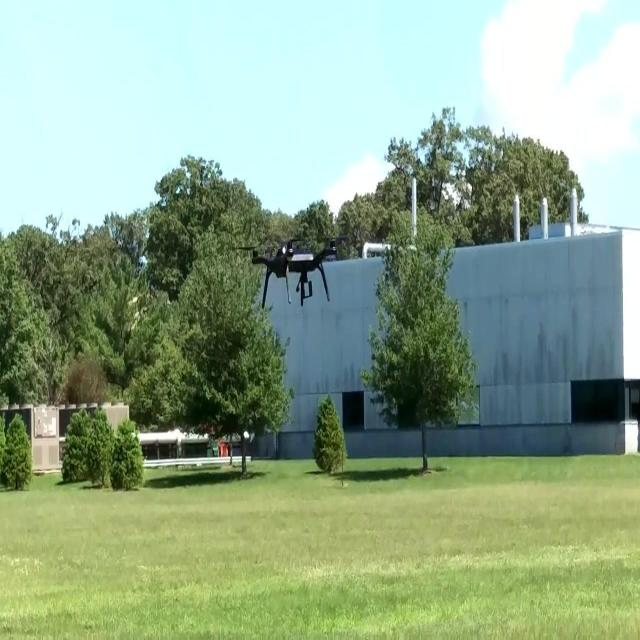drone: (245, 233, 352, 310)
